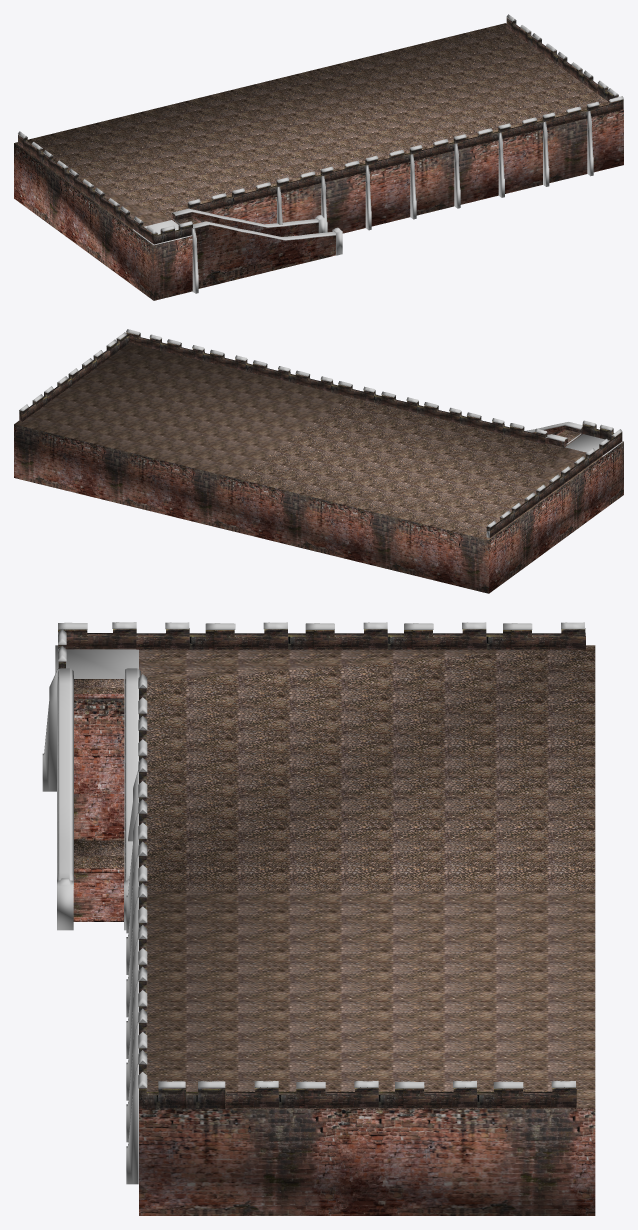
Rendered from largekeepbase.fbx.
3 views of the same model, one above another, from view 1: azimuth 30°, elevation 25°; view 2: azimuth 150°, elevation 25°; view 3: azimuth 270°, elevation 25° (orthographic). The views are drawn at different scales.
Parts seen in each view (by area): view 1: arteria3dFrotressBase, KeepBaseSteps; view 2: arteria3dFrotressBase, KeepBaseSteps; view 3: arteria3dFrotressBase, KeepBaseSteps.
Part boxes in pixels (x1,y1,x2,y2): arteria3dFrotressBase: (14,14,623,300); KeepBaseSteps: (171,208,342,292); arteria3dFrotressBase: (14,329,623,593); KeepBaseSteps: (525,422,582,447); arteria3dFrotressBase: (42,622,595,1215); KeepBaseSteps: (57,668,140,930).
Bounding box in the file's own units: 2338 × 314 × 1179.
